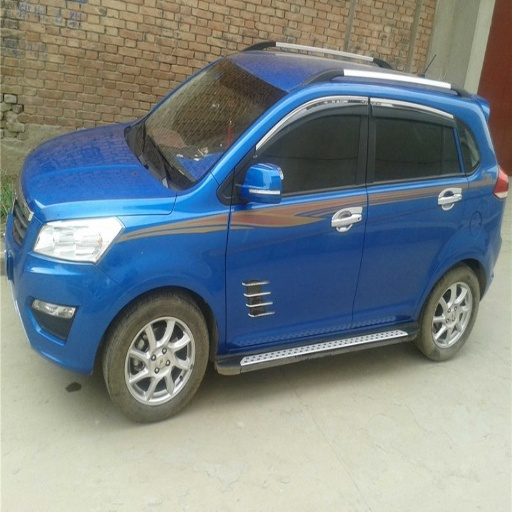front_bumper: (14, 252, 112, 365)
front_glass: (153, 62, 274, 176)
front_left_door: (228, 95, 369, 344)
